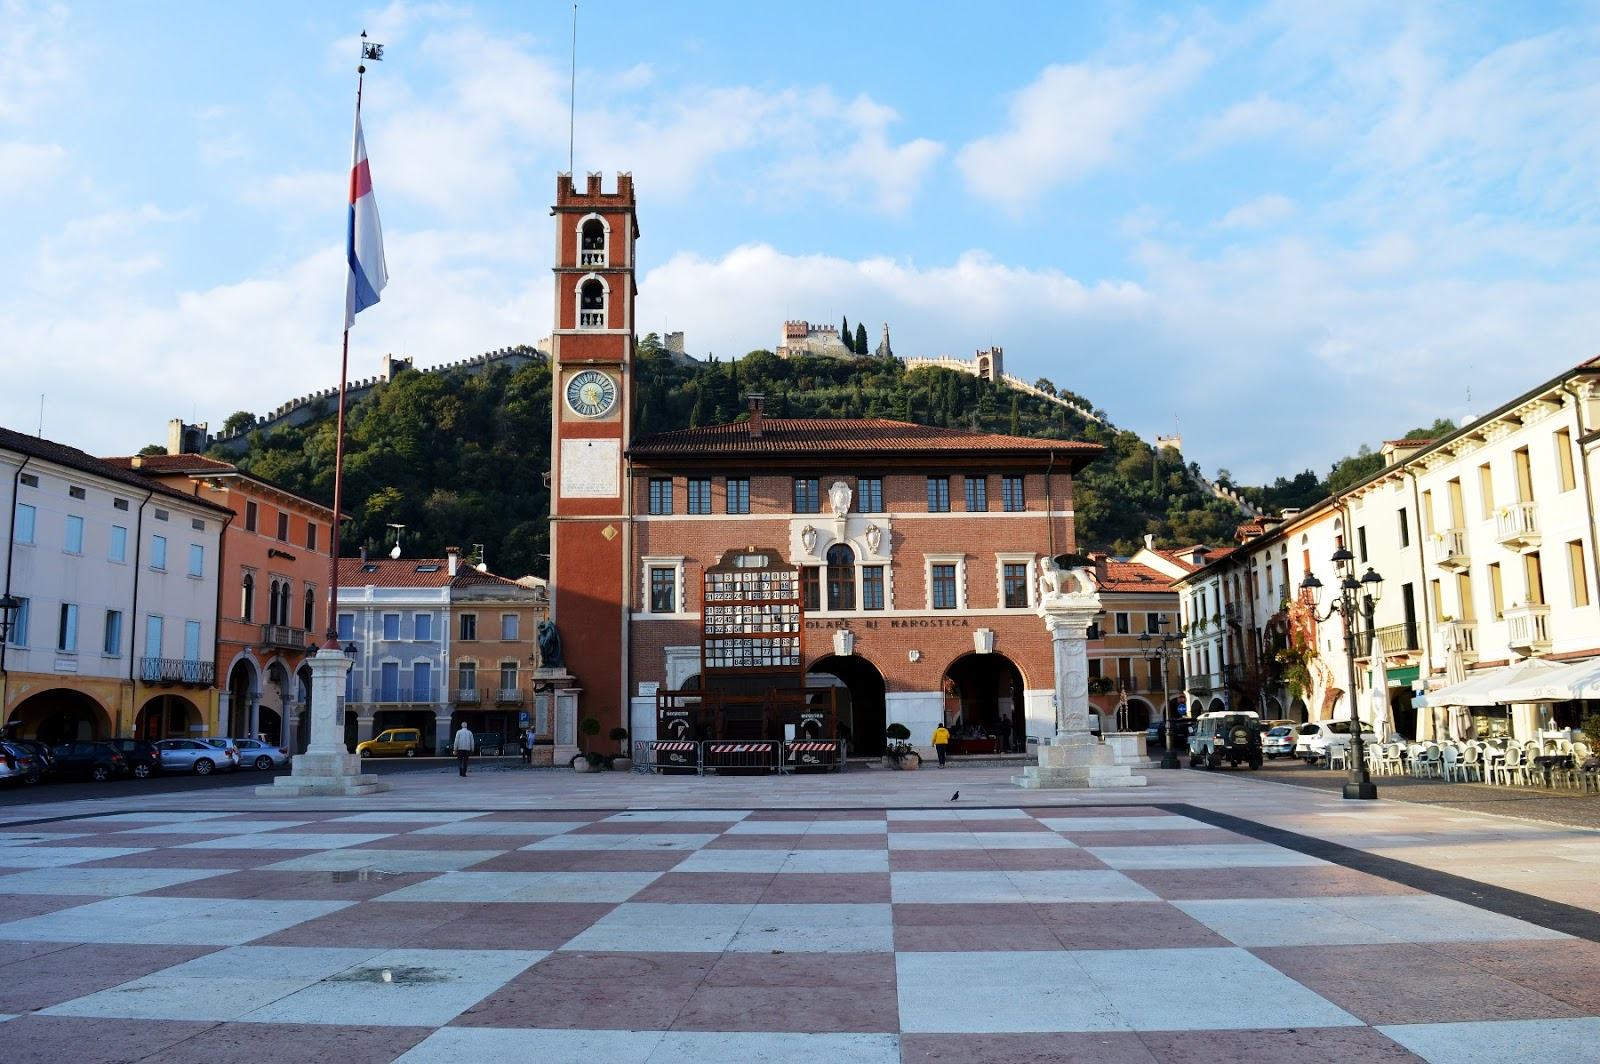Flag: (337, 94, 392, 336)
